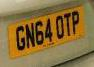4: (44, 17, 54, 43)
6: (35, 20, 44, 46)
G: (15, 25, 26, 51)
N: (25, 22, 36, 49)
O: (55, 14, 65, 39)
P: (71, 10, 80, 35)
T: (63, 12, 72, 37)
